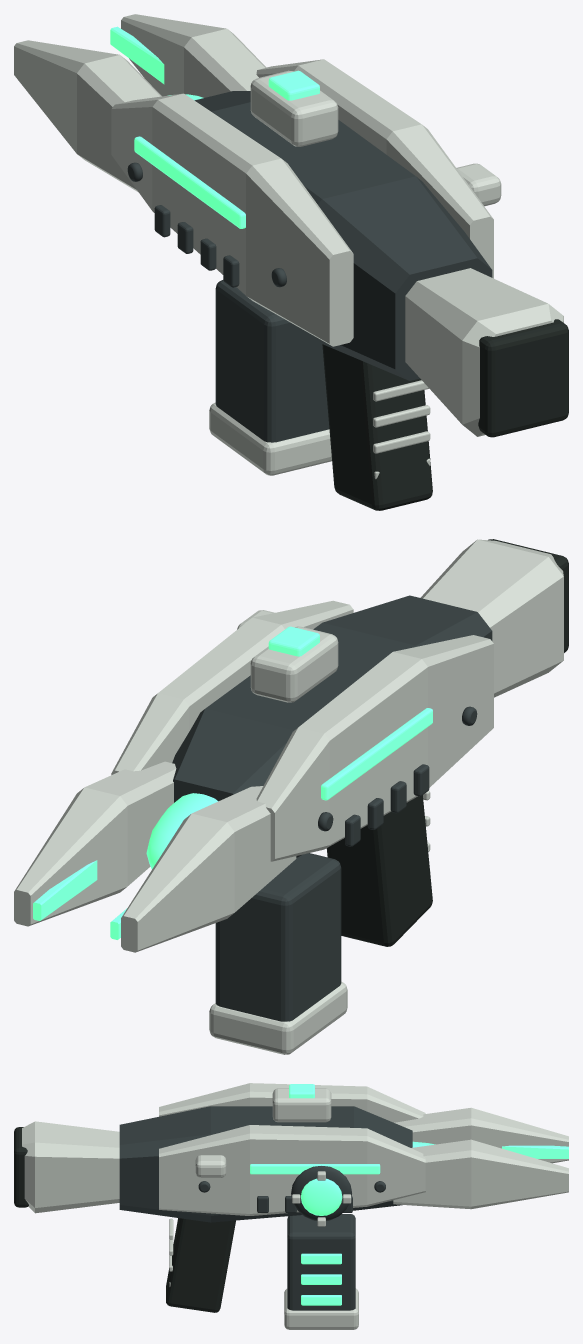
Rendered from Reference_plasma_pistol.glb.
The picture shows the model from 3 angles, top to bottom: view 1: azimuth 30°, elevation 25°; view 2: azimuth 150°, elevation 25°; view 3: azimuth 270°, elevation 25°; orthographic projection. The views are drawn at different scales.
Parts seen in each view (by area): view 1: Body, ReloadMagazine_EnergyCell, ChargingHandle_Reference; view 2: Body, ReloadMagazine_EnergyCell; view 3: Body, ReloadMagazine_EnergyCell, ChargingHandle_Reference.
Part boxes in pixels (box(x1,y1,x2,y2)): Body: box(14, 14, 568, 510); ReloadMagazine_EnergyCell: box(209, 280, 331, 475); ChargingHandle_Reference: box(456, 163, 501, 206); Body: box(14, 539, 568, 952); ReloadMagazine_EnergyCell: box(209, 853, 347, 1054); Body: box(14, 1083, 568, 1312); ReloadMagazine_EnergyCell: box(284, 1214, 358, 1329); ChargingHandle_Reference: box(195, 1155, 226, 1177).
Bounding box in the file's own units: 0.2405 × 0.3915 × 0.8525.
